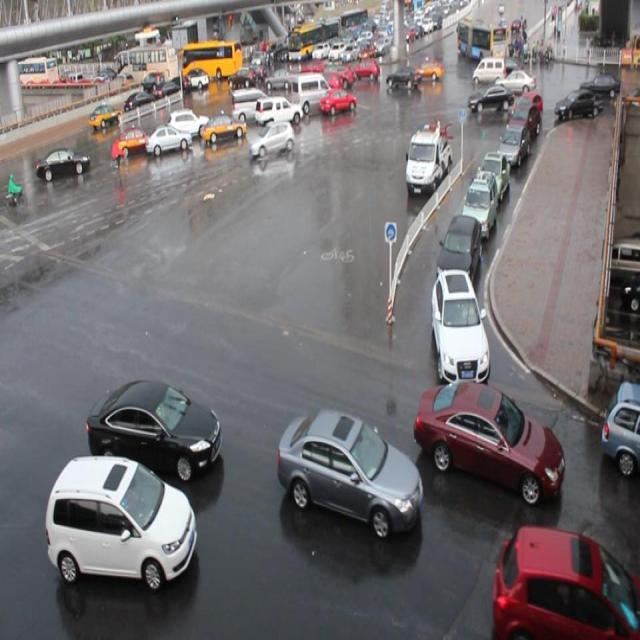bus: (404, 130, 451, 194)
car: (44, 454, 197, 590), (277, 407, 421, 536), (413, 382, 565, 504), (492, 524, 640, 640), (88, 379, 222, 478), (430, 268, 488, 384), (598, 381, 640, 471), (436, 213, 481, 292), (460, 173, 498, 242), (473, 150, 509, 208), (38, 145, 91, 177), (250, 121, 294, 159), (202, 112, 247, 146), (255, 98, 302, 130), (495, 124, 527, 170), (467, 84, 513, 115), (507, 106, 539, 150), (168, 110, 211, 139), (146, 126, 192, 153), (517, 94, 543, 132), (115, 128, 156, 152), (321, 90, 358, 115)
truck: (292, 77, 333, 113), (232, 90, 274, 122)
